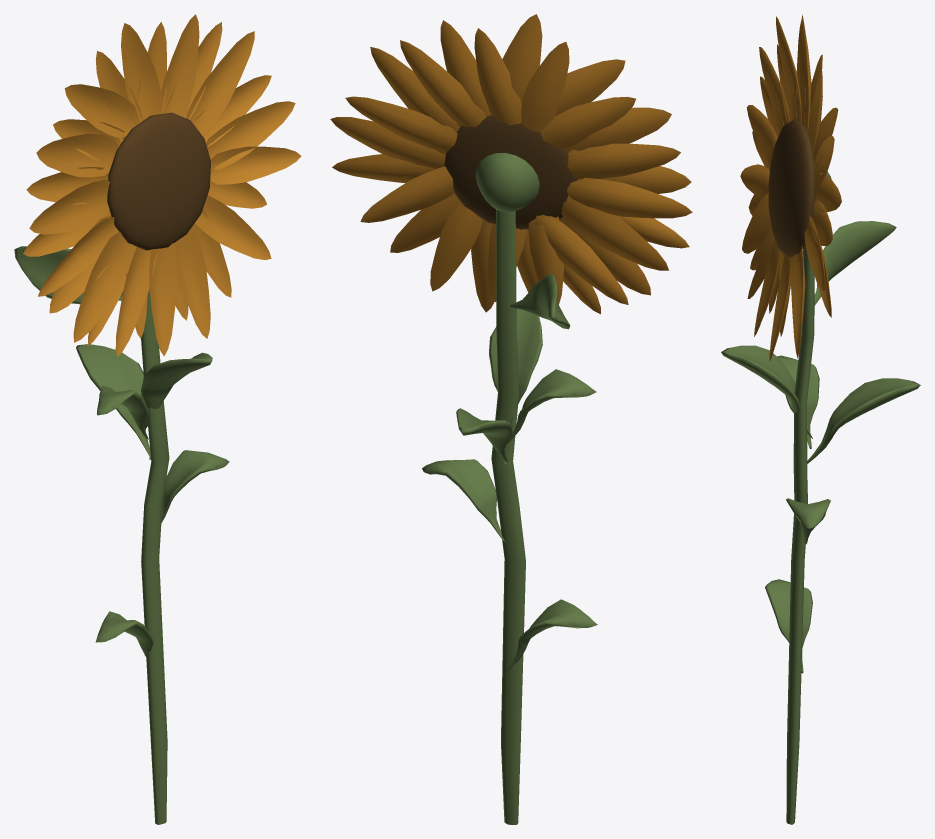
The model's file is sunflower1.fbx.
3 renders of one model, left to right at view 1: azimuth 30°, elevation 25°; view 2: azimuth 150°, elevation 25°; view 3: azimuth 270°, elevation 25°, orthographic. The views are drawn at different scales.
Parts seen in each view (by area): view 1: polySurface212; view 2: polySurface212; view 3: polySurface212.
Part boxes in pixels (x1,y1,x2,y2): polySurface212: [14, 14, 301, 824]; polySurface212: [330, 14, 692, 824]; polySurface212: [721, 14, 920, 824].
Bounding box in the file's own units: 2.32 × 5.62 × 1.28.
